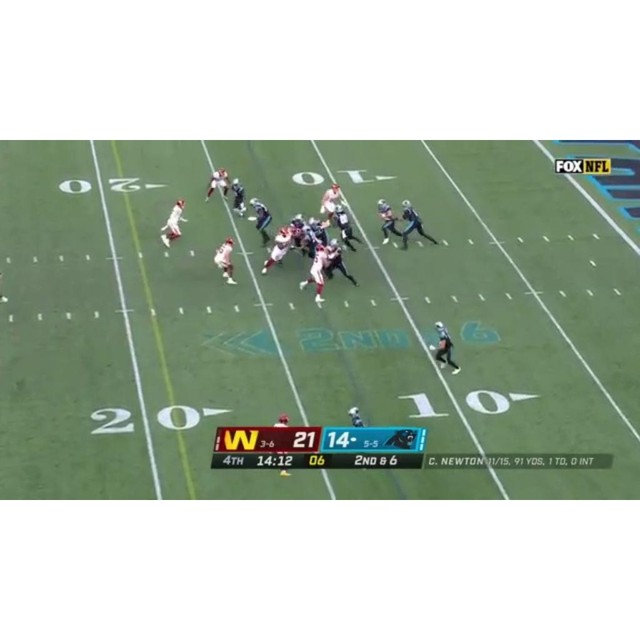american-football-player: (299, 245, 332, 305), (400, 198, 438, 249), (261, 225, 295, 276), (429, 321, 461, 375), (325, 239, 360, 288), (159, 198, 188, 251), (333, 204, 362, 253), (376, 199, 404, 246), (213, 238, 238, 285), (249, 196, 273, 244), (320, 182, 344, 224), (205, 167, 231, 202), (230, 178, 248, 217), (348, 406, 368, 428)
